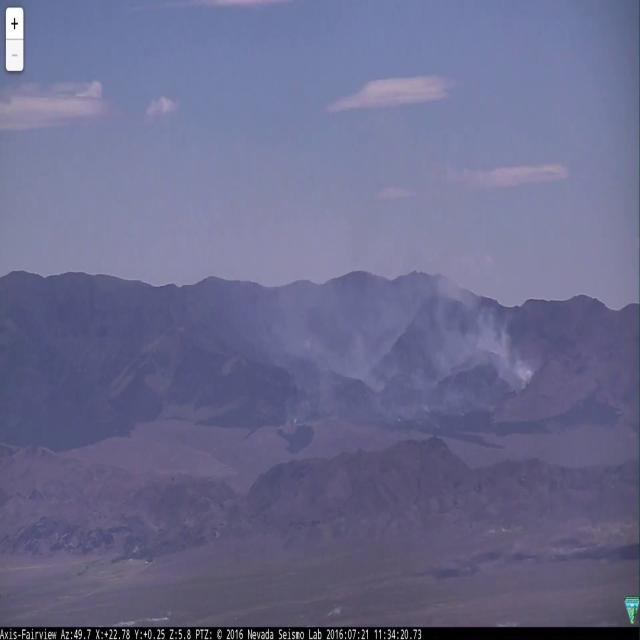smoke: (214, 210, 536, 400)
